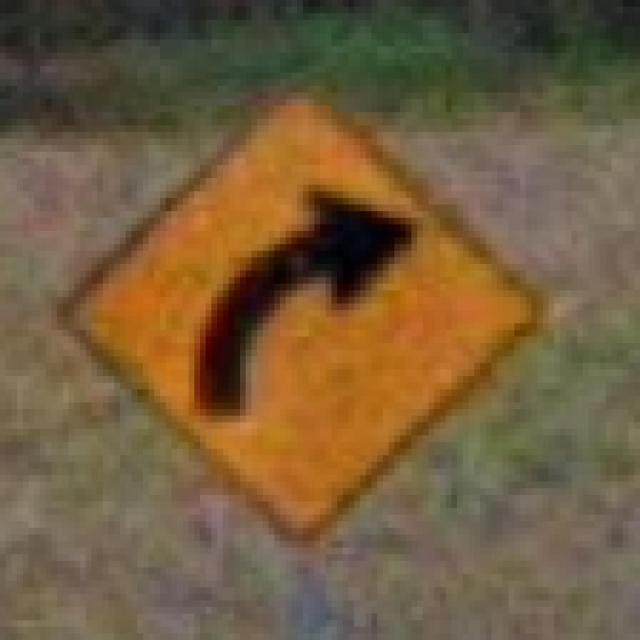Tikungan Ke Kanan: (34, 59, 543, 548)
